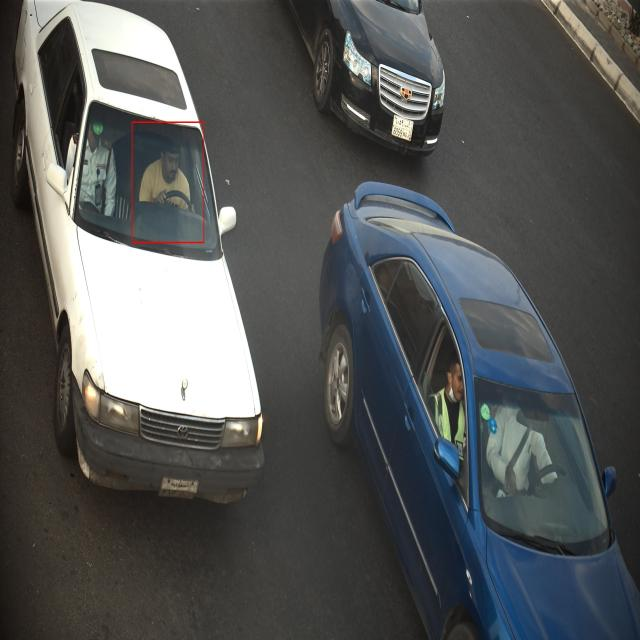windshield: (465, 368, 614, 554), (72, 96, 224, 271)
